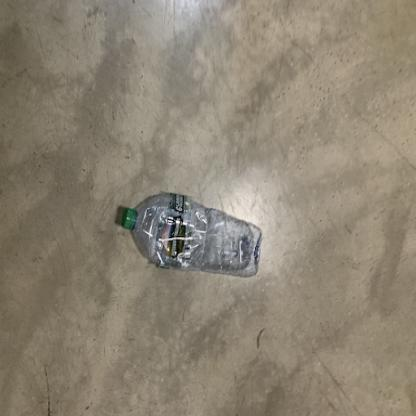trash: (120, 193, 266, 277)
